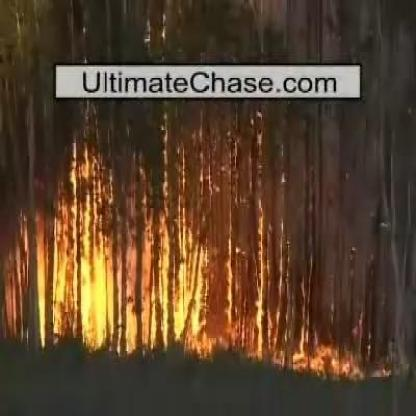foggia-v2-map80-epoch100 - v1 4323: (80, 256, 113, 348), (176, 244, 206, 340)
